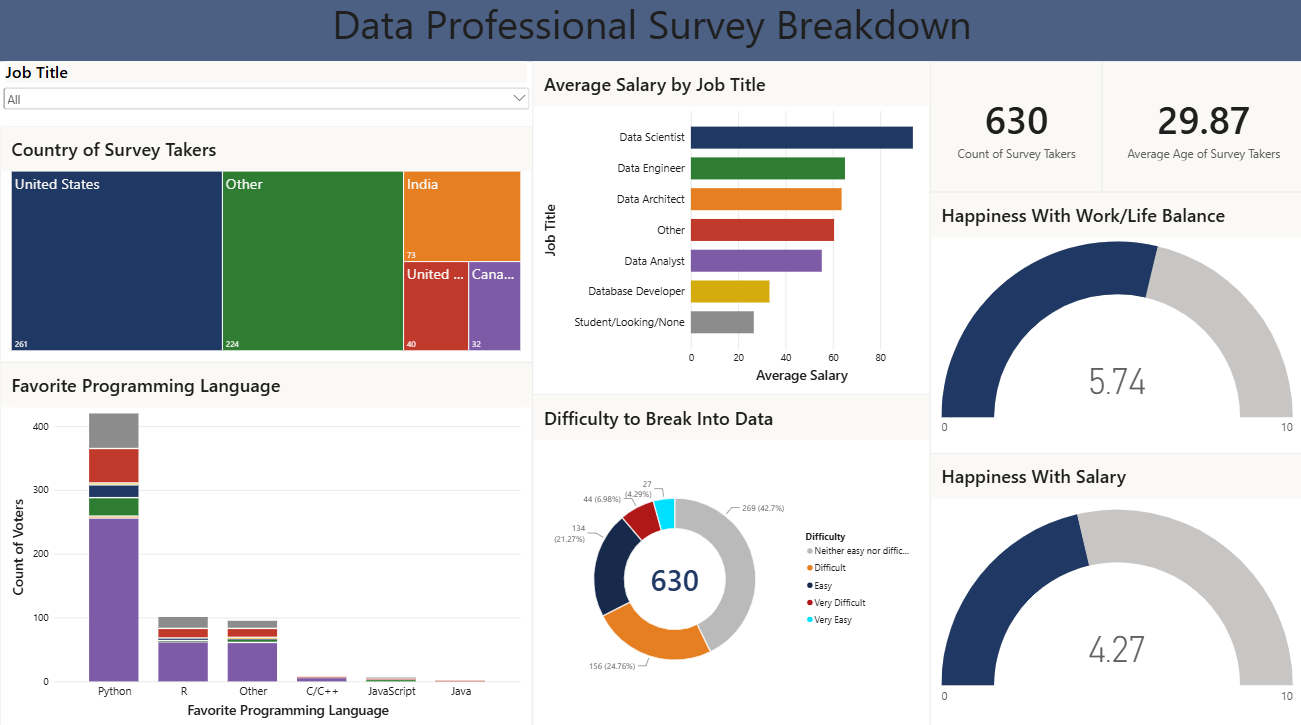

The page's visual inventory and layout, read from the dashboard file:
{"tool":"powerbi","page":{"name":"Page 1","canvas":[1920,1080],"ordinal":0},"visuals":[{"type":"textbox","box":[0,0,1919.6,95.7],"z":0},{"type":"cardVisual","fields":{"Data":["Avg(Data Professional Survey.Q10 - Current Age)"]},"box":[1623.6,94.9,296.8,193.9],"z":1000},{"type":"barChart","title":"Average Salary by Job Title","fields":{"Category":["Data Professional Survey.Q1 - Which Title Best Fits your Current Role?.1"],"Series":["Data Professional Survey.Q1 - Which Title Best Fits your Current Role?.1"],"Y":["Avg(Data Professional Survey.Average Salary)"]},"box":[784.1,95.7,585.3,491.4],"z":3000},{"type":"columnChart","title":"Favorite Programming Language","fields":{"Category":["Data Professional Survey.Q5 - Favorite Programming Language.1"],"Series":["Data Professional Survey.Q1 - Which Title Best Fits your Current Role?.1"],"Y":["CountNonNull(Data Professional Survey.Unique ID)"]},"box":[0,539.3,784.1,541.1],"z":4000},{"type":"treemap","title":"Country of Survey Takers","fields":{"Group":["Data Professional Survey.Q11 - Which Country do you live in?.1"],"Values":["CountNonNull(Data Professional Survey.Q11 - Which Country do you live in?.1)"]},"box":[0,191.4,784.1,347.9],"z":5000},{"type":"gauge","title":"Happiness With Work/Life Balance","fields":{"MaxValue":["Max(Data Professional Survey.Q6 - How Happy are you in your Current Position with the following? (Work/Life Balance))2"],"MinValue":["Min(Data Professional Survey.Q6 - How Happy are you in your Current Position with the following? (Work/Life Balance))1"],"Y":["Avg(Data Professional Survey.Q6 - How Happy are you in your Current Position with the following? (Work/Life Balance))"]},"box":[1369.1,288.8,551.3,385.7],"z":6000},{"type":"gauge","title":"Happiness With Salary","fields":{"MaxValue":["Max(Data Professional Survey.Q6 - How Happy are you in your Current Position with the following? (Salary))"],"MinValue":["Min(Data Professional Survey.Q6 - How Happy are you in your Current Position with the following? (Salary))"],"Y":["Avg(Data Professional Survey.Q6 - How Happy are you in your Current Position with the following? (Salary))"]},"box":[1369.1,674.5,551.3,405.9],"z":7000},{"type":"donutChart","title":"Difficulty to Break Into Data","fields":{"Category":["Data Professional Survey.Q7 - How difficult was it for you to break into Data?"],"Y":["CountNonNull(Data Professional Survey.Q7 - How difficult was it for you to break into Data?)"]},"box":[784.1,587.1,585.3,493.3],"z":8000},{"type":"cardVisual","fields":{"Data":["Count(Data Professional Survey.Unique ID)"]},"box":[1369.3,95.7,254,193.3],"z":8001},{"type":"slicer","fields":{"Values":["Data Professional Survey.Q1 - Which Title Best Fits your Current Role?.1"]},"box":[0,95.7,784.1,95.7],"z":8002}]}

Visuals, with their boxes in screenshot pixels (x1, y1, x2, y2), scaled from the page's 1920x1080 canvas onto the 1301x725 screenshot:
textbox: select_region(0, 0, 1300, 64)
cardVisual - Avg(Data Professional Survey.Q10 - Current Age): select_region(1100, 64, 1300, 194)
"Average Salary by Job Title" barChart: select_region(531, 64, 928, 394)
"Favorite Programming Language" columnChart: select_region(0, 362, 531, 724)
"Country of Survey Takers" treemap: select_region(0, 128, 531, 362)
"Happiness With Work/Life Balance" gauge: select_region(928, 194, 1300, 453)
"Happiness With Salary" gauge: select_region(928, 453, 1300, 724)
"Difficulty to Break Into Data" donutChart: select_region(531, 394, 928, 724)
cardVisual - Count(Data Professional Survey.Unique ID): select_region(928, 64, 1100, 194)
slicer - Data Professional Survey.Q1 - Which Title Best Fits your Current Role?.1: select_region(0, 64, 531, 128)
